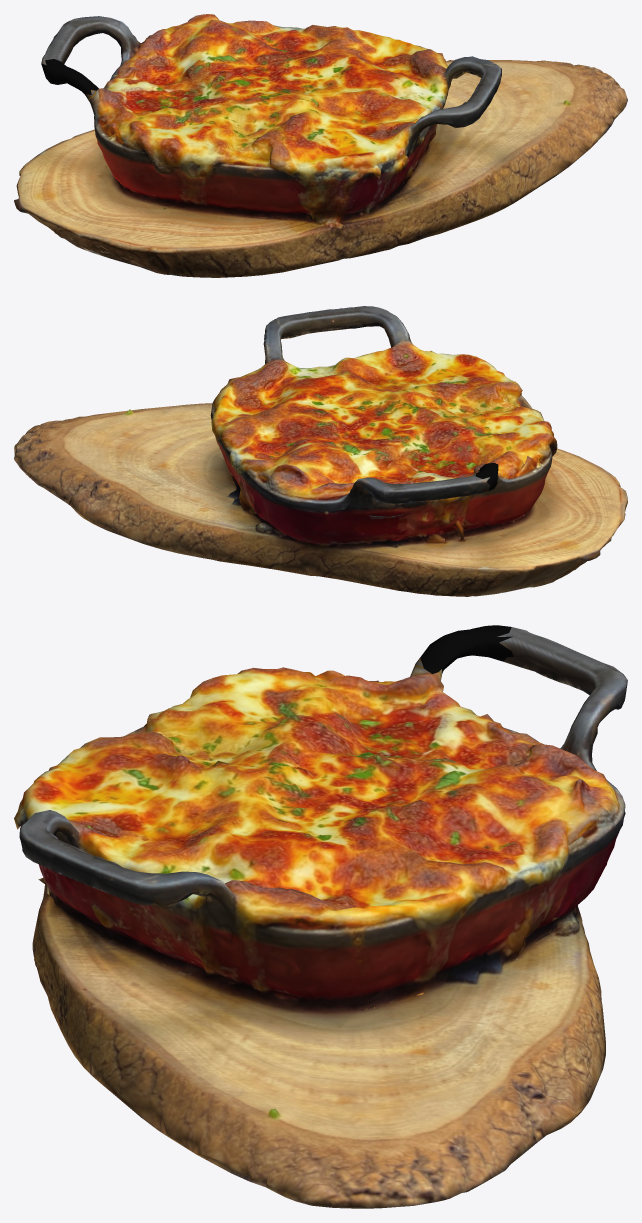
3 views of the same model, one above another, from view 1: azimuth 30°, elevation 25°; view 2: azimuth 150°, elevation 25°; view 3: azimuth 270°, elevation 25° (orthographic). The views are drawn at different scales.
Parts seen in each view (by area): view 1: object.005; view 2: object.005; view 3: object.005.
Boxes of the visible parts, x1,y1,x2,y2 form: object.005: (14,14,627,277); object.005: (14,306,627,596); object.005: (14,625,627,1208).
Bounding box in the file's own units: 0.3727 × 0.0755 × 0.2131.
Materials: 1 (1 with a texture image).
